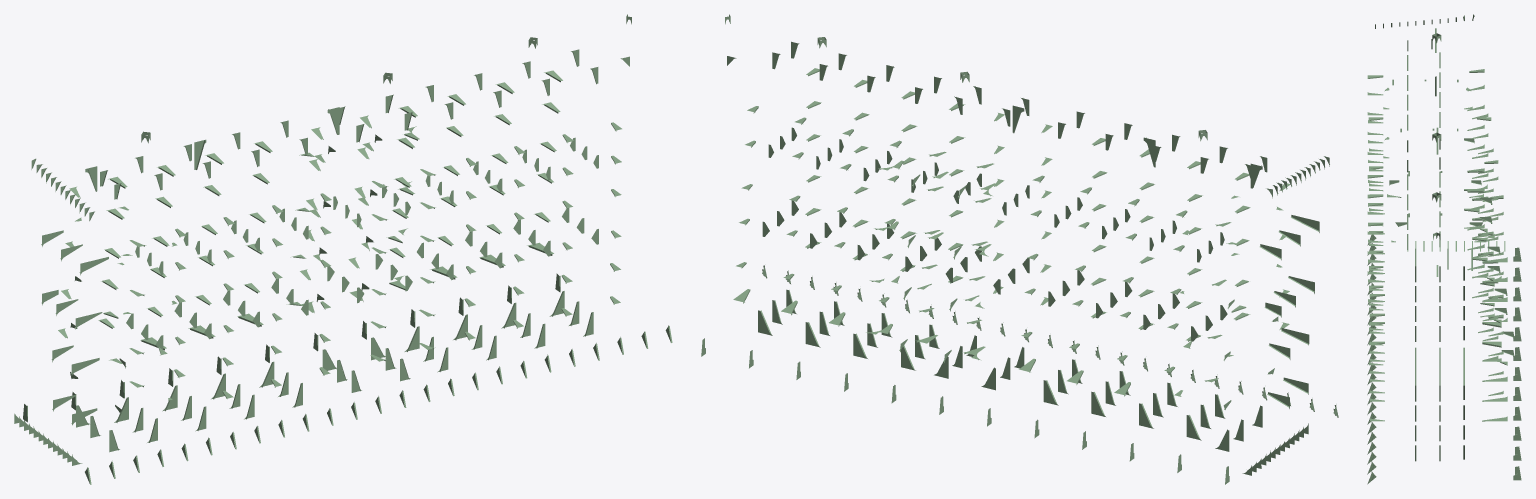
File: NO_3_WING_CARGO_OIL_TK_SB.glb
The picture shows the model from 3 angles, left to right: view 1: azimuth 30°, elevation 25°; view 2: azimuth 150°, elevation 25°; view 3: azimuth 270°, elevation 25°; orthographic projection. The views are drawn at different scales.
Bounding box in the file's own units: 63.03 × 31.5 × 17.16.
